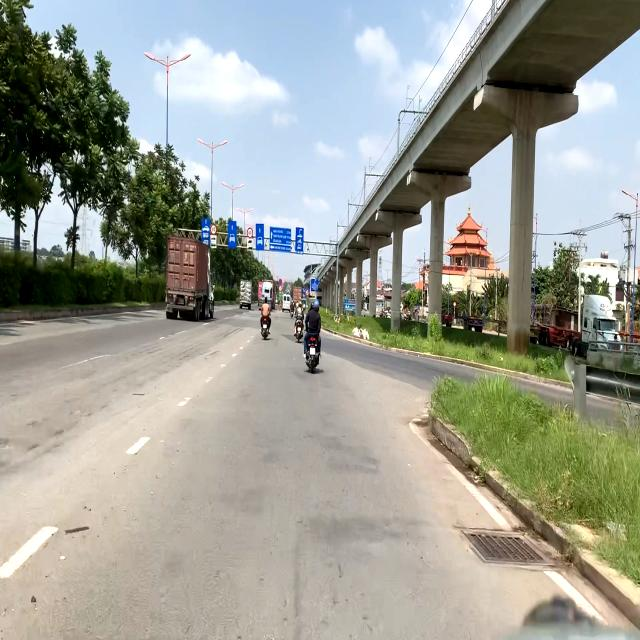P.127: (210, 224, 217, 235), (247, 227, 253, 238)
